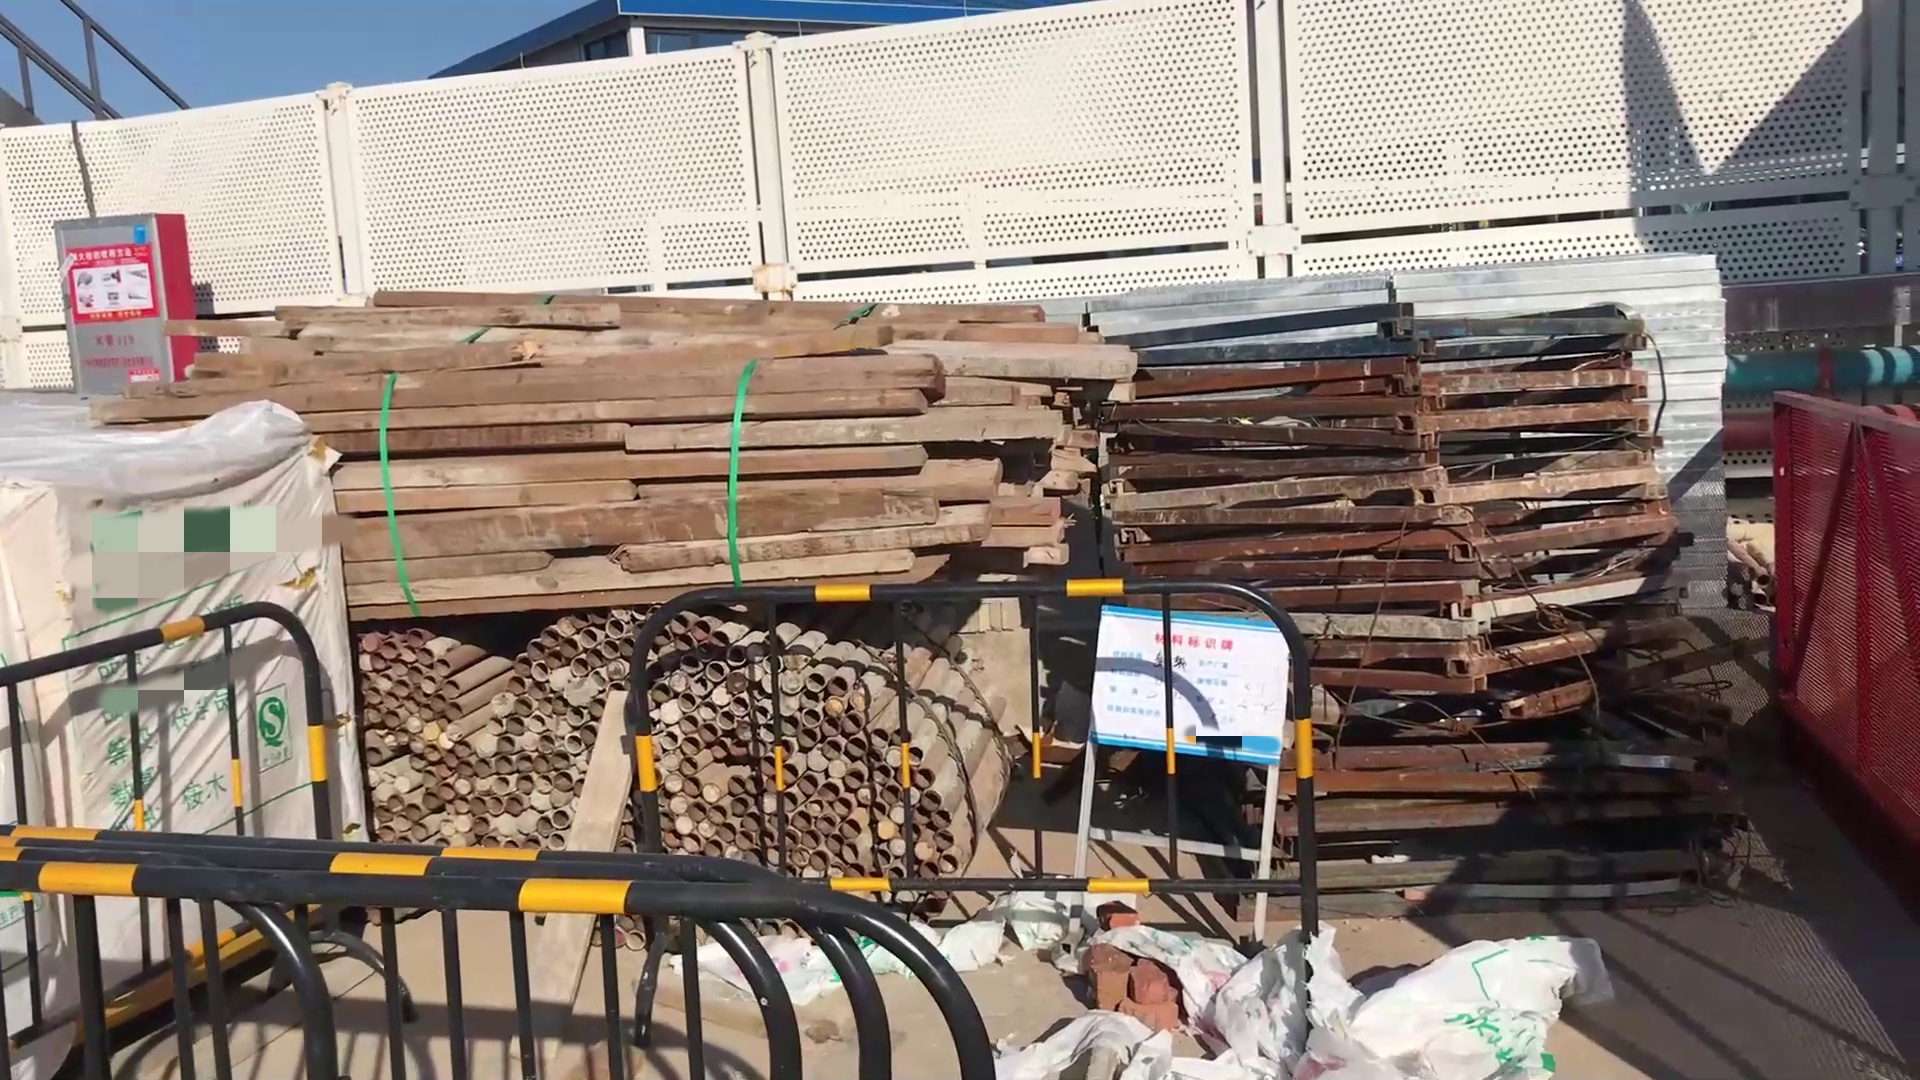fence: (4, 845, 1021, 1080), (618, 579, 1323, 891), (7, 603, 342, 865)
rebar: (1135, 327, 1731, 919), (502, 618, 978, 893), (353, 640, 582, 851)
wood: (171, 301, 1102, 576)
